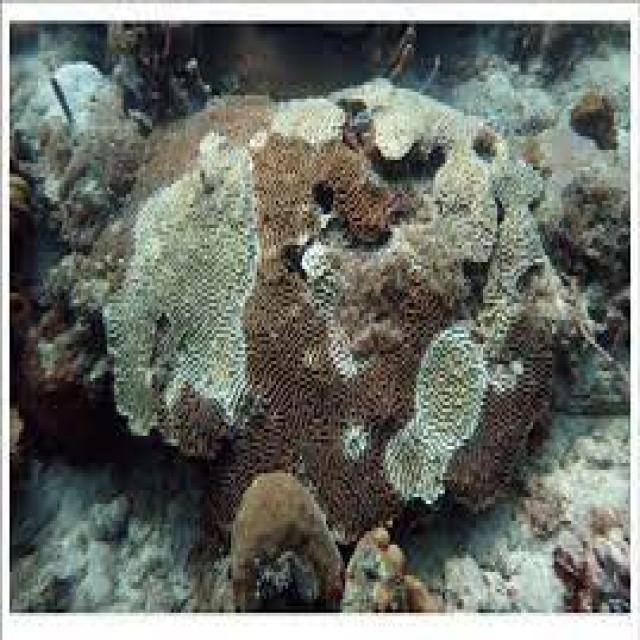Coral: (20, 75, 609, 545)
